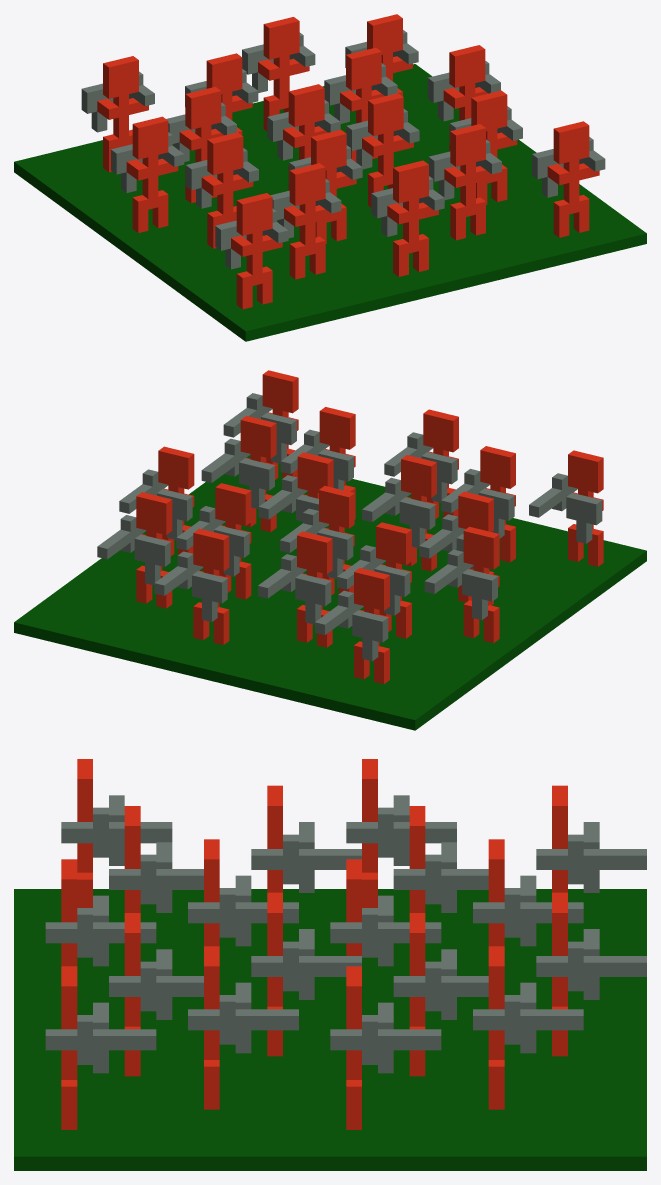
Rendered from Armee.obj.
3 views of the same model, one above another, from view 1: azimuth 30°, elevation 25°; view 2: azimuth 150°, elevation 25°; view 3: azimuth 270°, elevation 25° (orthographic). The views are drawn at different scales.
Size of the model in its own units: 4 by 1.1 by 4.
Materials: 1 (1 with a texture image).
